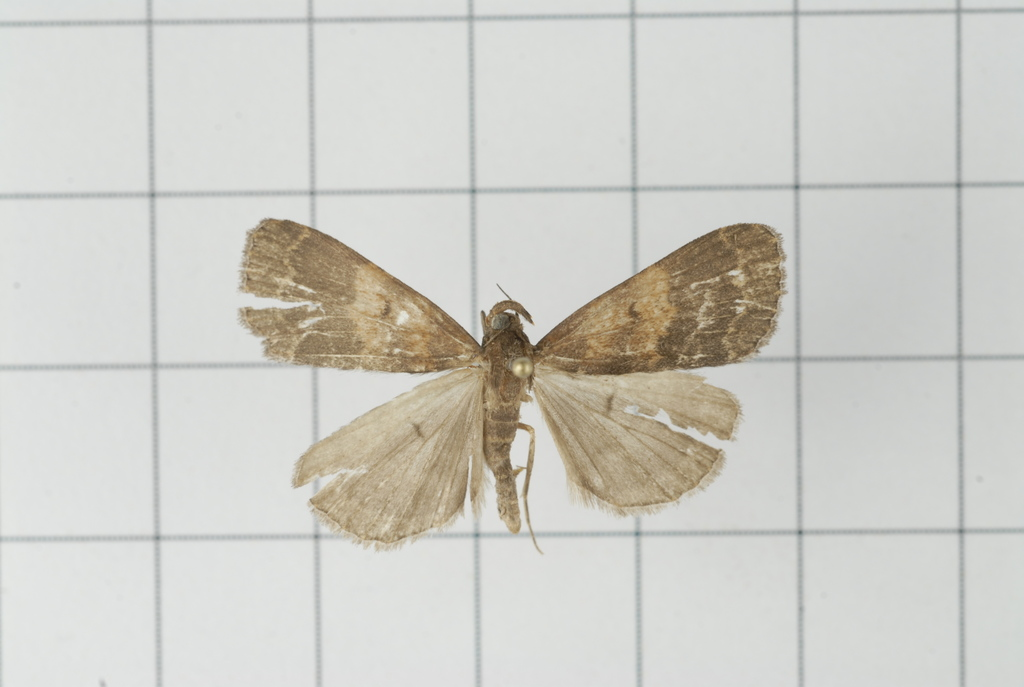Butterfly: (221, 180, 800, 576)
